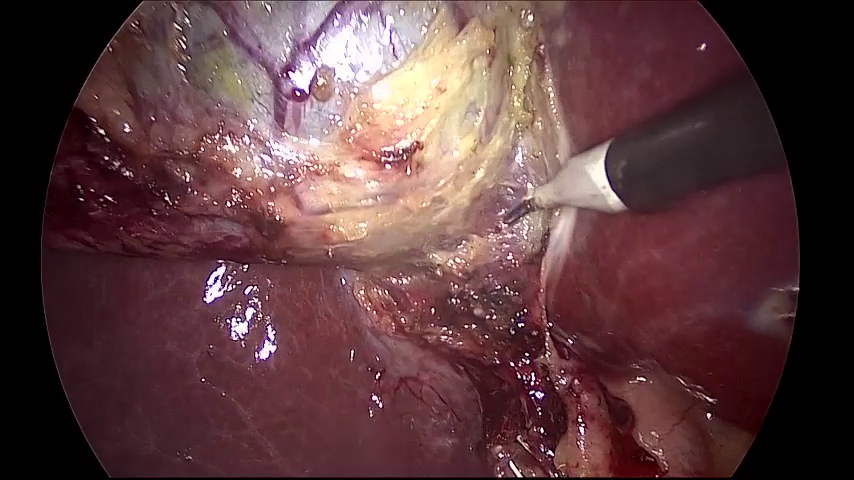lhook: (503, 65, 792, 226)
